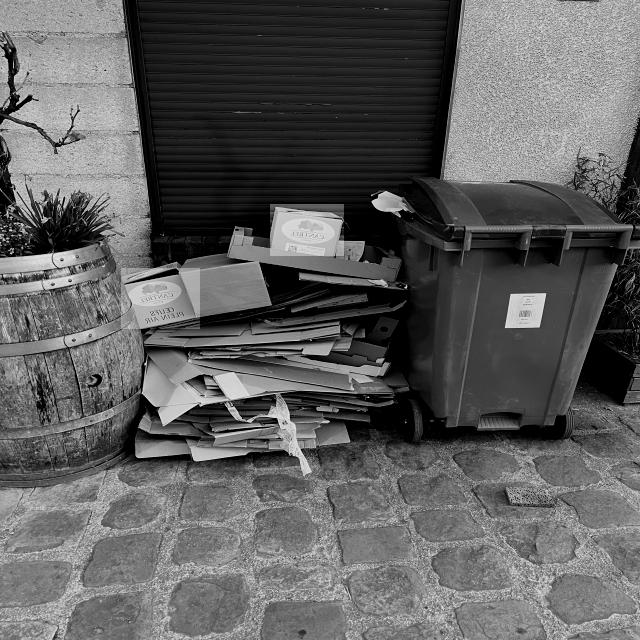Other Carton: (121, 268, 200, 329), (270, 204, 344, 256)
